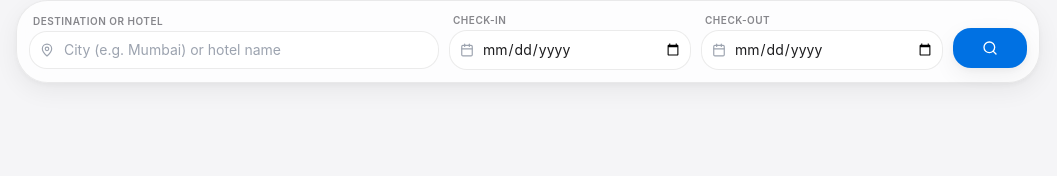
Scenario: Milestone 2 — Discovery & Search Tests › SearchCapsule › displays validation alert when user submits with only one date
In the date field labelled "Check-In": (582, 50) [474, 31, 690, 69], type "2026-12-01"
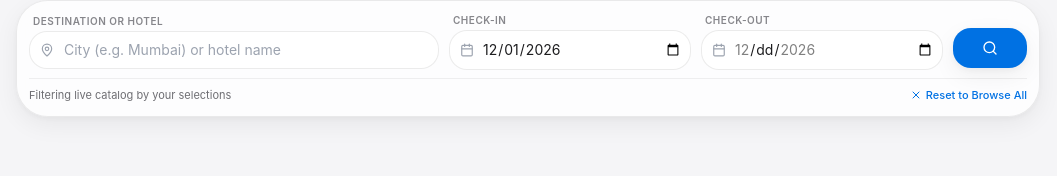
Click the button named "Search Hotels": (990, 48) [953, 28, 1027, 68]
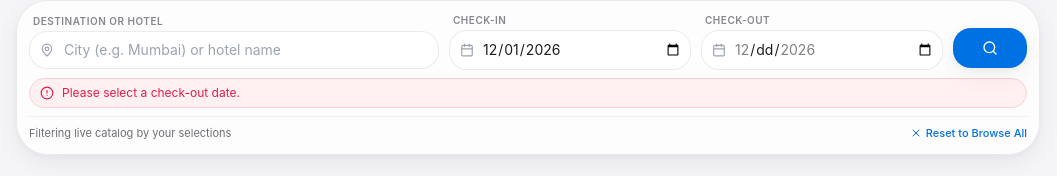
Now the message shows "Please select a check-out date", box [62, 85, 240, 100]
